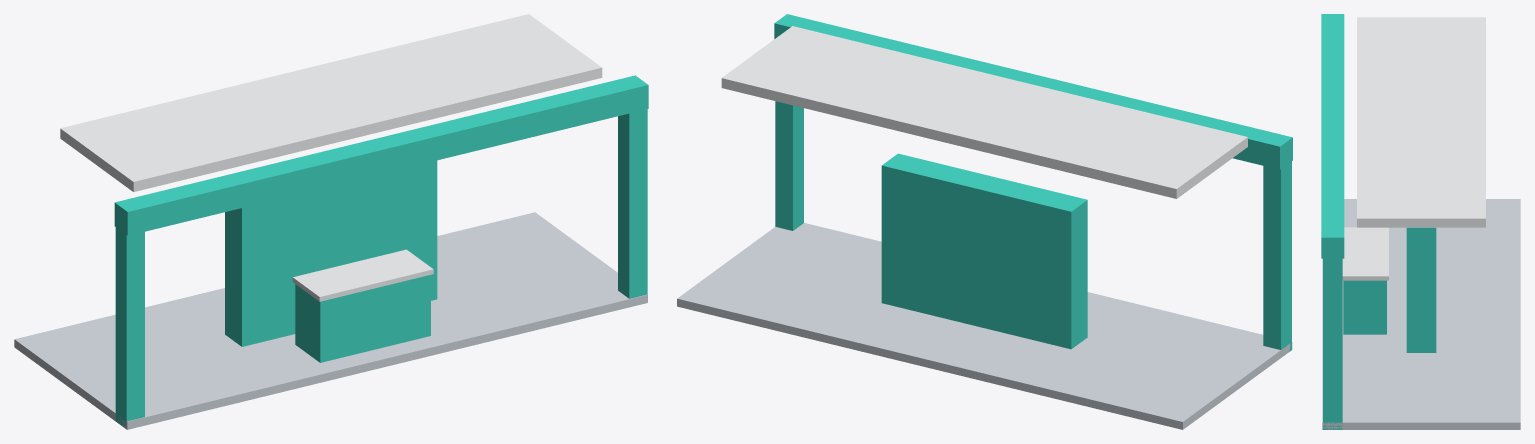
3 views of the same model, side by side, from view 1: azimuth 30°, elevation 25°; view 2: azimuth 150°, elevation 25°; view 3: azimuth 270°, elevation 25° (orthographic). The views are drawn at different scales.
Parts seen in each view (by area): view 1: Exhibition Booth Concept; view 2: Exhibition Booth Concept; view 3: Exhibition Booth Concept.
Part boxes in pixels (x1=…): Exhibition Booth Concept: x1=14, y1=14, x2=648, y2=429; Exhibition Booth Concept: x1=677, y1=14, x2=1292, y2=429; Exhibition Booth Concept: x1=1321, y1=14, x2=1520, y2=429.
Bounding box in the file's own units: 8 × 3.34 × 3.01.
